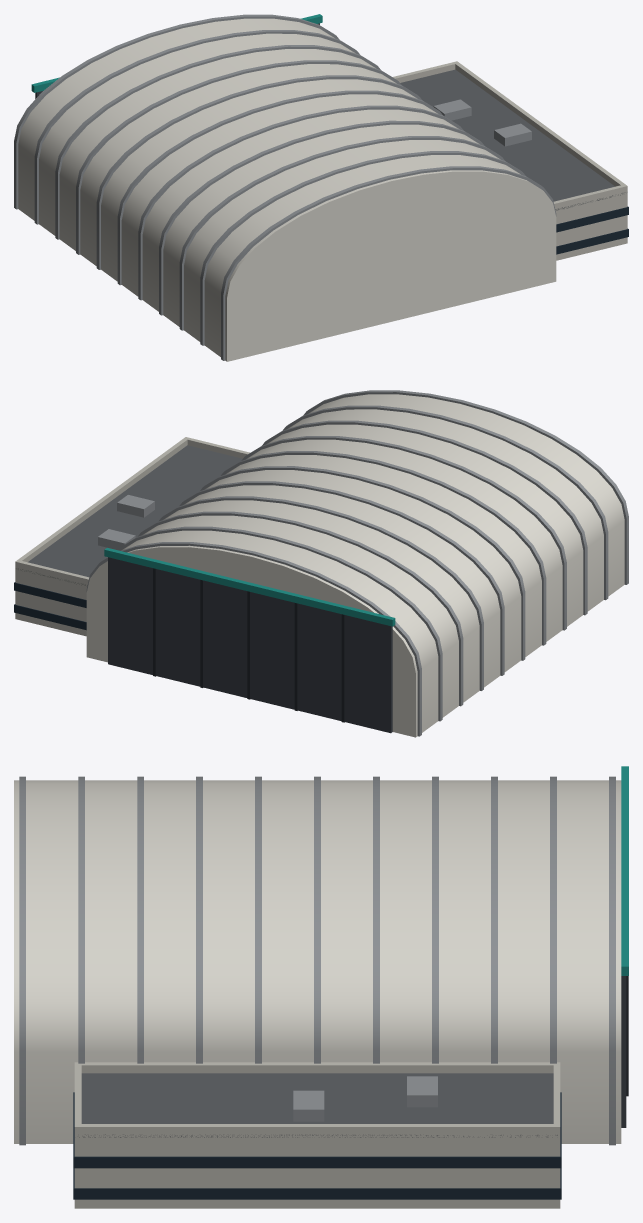
Rendered from hangar_3.glb.
3 renders of one model, top to bottom at view 1: azimuth 30°, elevation 25°; view 2: azimuth 150°, elevation 25°; view 3: azimuth 270°, elevation 25°, orthographic. The views are drawn at different scales.
Parts seen in each view (by area): view 1: Hangar.002; view 2: Hangar.002; view 3: Hangar.002.
Boxes of the visible parts, <box> form: Hangar.002: <box>14,14,628,361</box>; Hangar.002: <box>14,390,628,737</box>; Hangar.002: <box>14,766,628,1208</box>.
Size of the model in its own units: 80.5 by 25.85 by 70.9.
